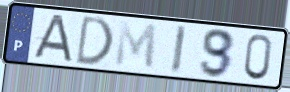0: (243, 33, 274, 82)
9: (197, 27, 238, 80)
A: (29, 13, 75, 64)
D: (73, 13, 116, 67)
I: (169, 23, 189, 76)
M: (113, 20, 159, 72)
